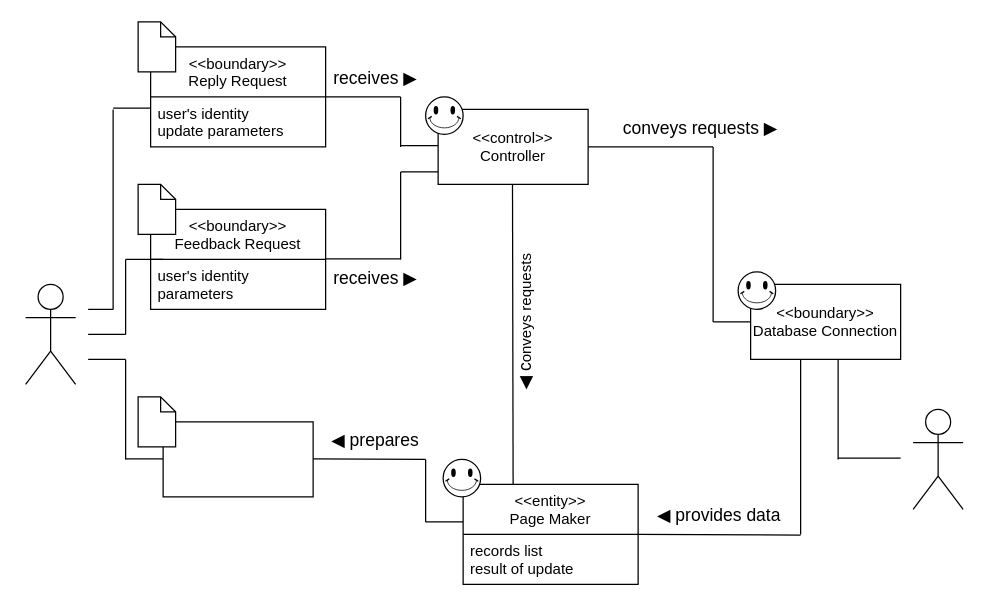
The diagram is 991 pixels wide and 610 high, and some of its shapes have lost their labels. Here are the shapes that lost their labels. From the top down, the centre of each, then its label:
the point at 50,333: Manager
the point at 237,459: <<boundary>> Interface Page
the point at 937,458: Database
